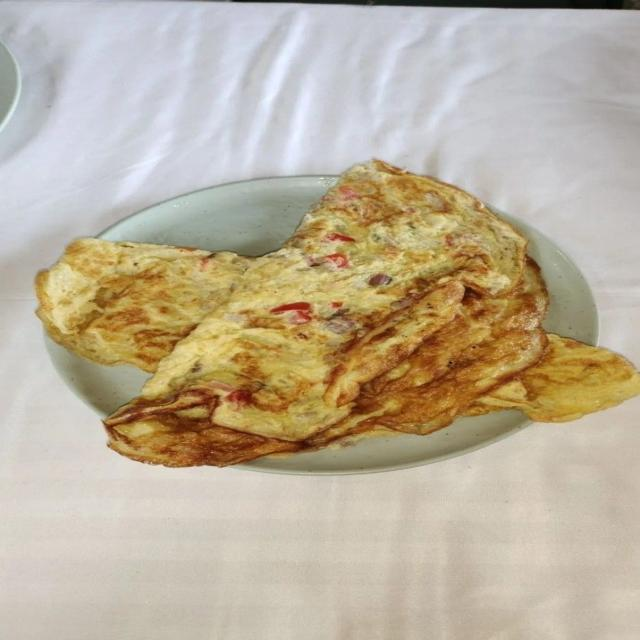omelette: (37, 161, 639, 466), (106, 162, 525, 441), (308, 259, 547, 446), (36, 239, 249, 372), (465, 335, 639, 422)
